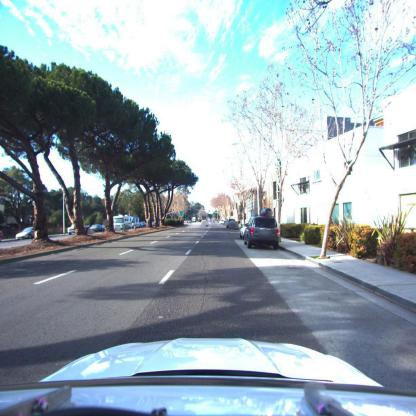car: (244, 212, 280, 250), (16, 228, 36, 240), (224, 219, 240, 230), (90, 224, 106, 234), (178, 209, 184, 219)
truck: (114, 215, 132, 231)
